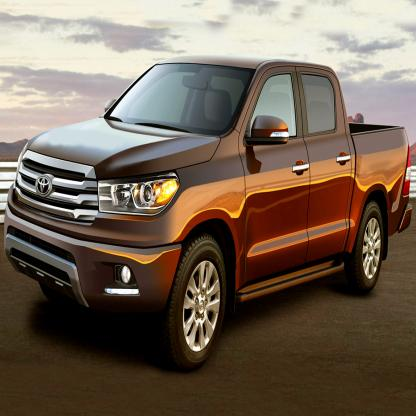light_vehicle: (8, 33, 416, 373)
